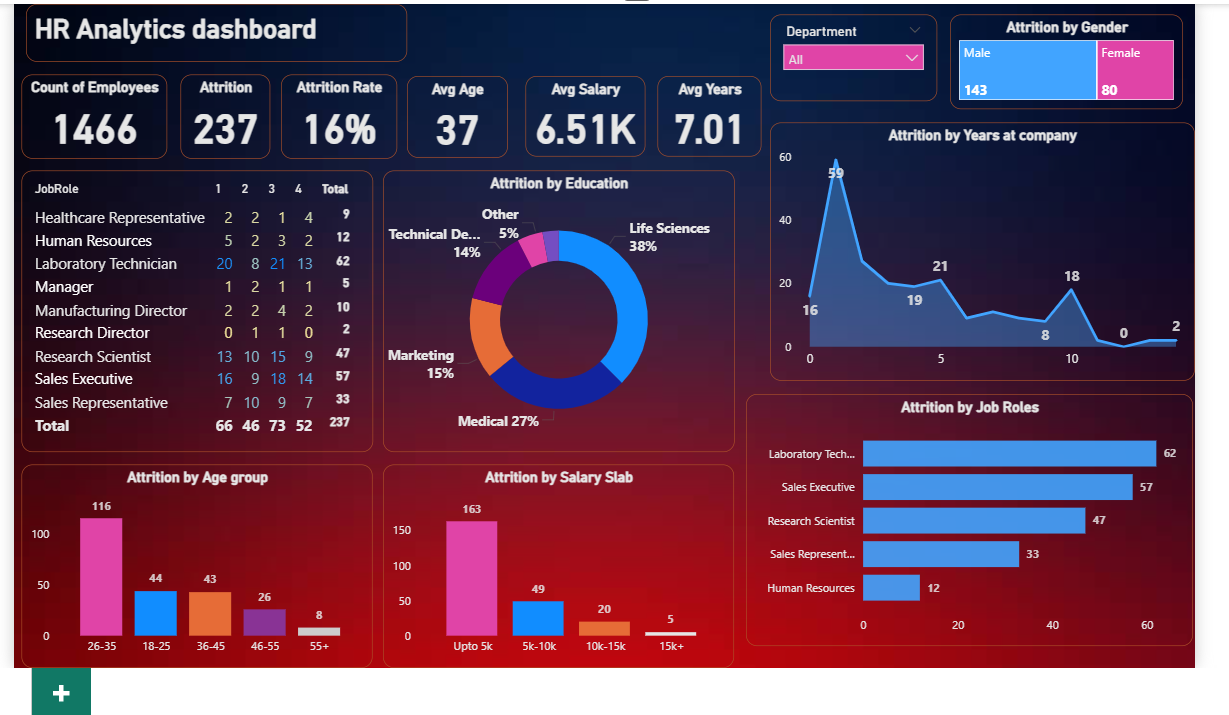

What the dashboard file says about the page in this screenshot:
{"tool":"powerbi","page":{"name":"Page 1","canvas":[1280,720],"ordinal":0},"visuals":[{"type":"card","title":"Count of Employees","fields":{"Values":["CountNonNull(HR_Analytics.EmpID)"]},"box":[7.7,75.7,157.9,91.2],"z":0},{"type":"card","title":"Attrition","fields":{"Values":["Sum(HR_Analytics.AttritionCount)"]},"box":[179.7,75.7,97.6,91.2],"z":1000},{"type":"card","title":"Attrition Rate","fields":{"Values":["HR_Analytics.Attrition_Rate"]},"box":[288.9,77,125.8,91.2],"z":2000},{"type":"card","title":"Avg Age","fields":{"Values":["Avg(HR_Analytics.Age)"]},"box":[426.2,78.3,109.1,88.6],"z":3000},{"type":"card","title":"Avg Years","fields":{"Values":["Avg(HR_Analytics.YearsAtCompany)"]},"box":[697.1,78.3,113,87.3],"z":4000},{"type":"card","title":"Avg Salary","fields":{"Values":["Avg(HR_Analytics.MonthlyIncome)"]},"box":[554.6,78.3,129.7,87.3],"z":5000},{"type":"donutChart","title":"Attrition by Education","fields":{"Y":["Sum(HR_Analytics.AttritionCount)"],"Category":["HR_Analytics.EducationField"]},"box":[400.6,179.7,381.3,305.6],"z":6000},{"type":"clusteredColumnChart","title":"Attrition by Age group","fields":{"Category":["HR_Analytics.AgeGroup"],"Y":["Sum(HR_Analytics.AttritionCount)"]},"box":[7.8,499.5,380.8,220.6],"z":7000},{"type":"pivotTable","fields":{"Rows":["HR_Analytics.JobRole"],"Columns":["HR_Analytics.JobSatisfaction"],"Values":["Sum(HR_Analytics.AttritionCount)"]},"box":[7.7,179.7,381.3,305.6],"z":8000},{"type":"clusteredColumnChart","title":"Attrition by Salary Slab","fields":{"Y":["Sum(HR_Analytics.AttritionCount)"],"Category":["HR_Analytics.SalarySlab"]},"box":[400.9,499.5,380.8,220.6],"z":9000},{"type":"clusteredBarChart","title":"Attrition by Job Roles","fields":{"Category":["HR_Analytics.JobRole"],"Y":["Sum(HR_Analytics.AttritionCount)"]},"box":[794.5,422.7,484.9,273.6],"z":10000},{"type":"areaChart","title":"Attrition by Years at company","fields":{"Category":["HR_Analytics.YearsAtCompany"],"Y":["Sum(HR_Analytics.AttritionCount)"]},"box":[819.1,127.8,460.3,280.1],"z":11000},{"type":"treemap","title":"Attrition by Gender","fields":{"Group":["HR_Analytics.Gender"],"Values":["Sum(HR_Analytics.AttritionCount)"]},"box":[1015.5,11.6,252.9,102.7],"z":12000},{"type":"slicer","fields":{"Values":["HR_Analytics.Department"]},"box":[819.1,11.6,181,93.7],"z":13000},{"type":"textbox","box":[12.8,0,413.4,62.9],"z":13001}]}

Visuals, with their boxes on the page's 1280x720 design canvas (x1, y1, x2, y2). These are canvas units, not pixel positions in the 1229x715 screenshot, which may show the page scaled, cropped or inside an application window:
"Count of Employees" card: select_region(8, 76, 166, 167)
"Attrition" card: select_region(180, 76, 277, 167)
"Attrition Rate" card: select_region(289, 77, 415, 168)
"Avg Age" card: select_region(426, 78, 535, 167)
"Avg Years" card: select_region(697, 78, 810, 166)
"Avg Salary" card: select_region(555, 78, 684, 166)
"Attrition by Education" donutChart: select_region(401, 180, 782, 485)
"Attrition by Age group" clusteredColumnChart: select_region(8, 500, 389, 720)
pivotTable - HR_Analytics.JobRole x HR_Analytics.JobSatisfaction: select_region(8, 180, 389, 485)
"Attrition by Salary Slab" clusteredColumnChart: select_region(401, 500, 782, 720)
"Attrition by Job Roles" clusteredBarChart: select_region(794, 423, 1279, 696)
"Attrition by Years at company" areaChart: select_region(819, 128, 1279, 408)
"Attrition by Gender" treemap: select_region(1016, 12, 1268, 114)
slicer - HR_Analytics.Department: select_region(819, 12, 1000, 105)
textbox: select_region(13, 0, 426, 63)
